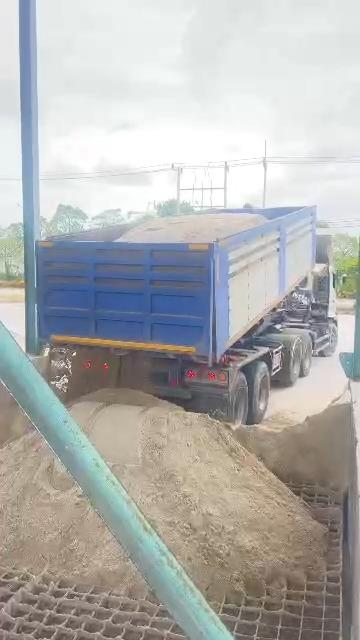sand: (71, 389, 325, 601), (0, 432, 145, 594), (236, 392, 353, 491), (49, 346, 146, 400), (119, 213, 265, 242), (0, 381, 28, 447)
